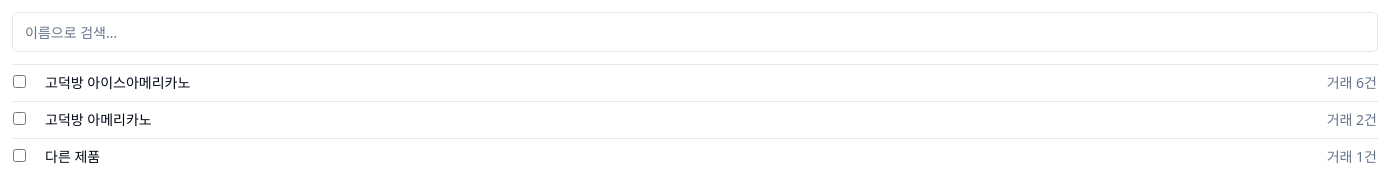
Test: ManualMergePanel › mount 시 자동으로 product 리스트 fetch + 검색 필터링
Expected: the text "고덕방 아이스아메리카노" is shown, x1=44 y1=64 x2=1028 y2=102
Expected: the text "다른 제품" is shown, x1=44 y1=138 x2=1028 y2=175
Type "고덕방" into the field with placeholder "이름으로 검색…" at [695, 32], box x1=12 y1=12 x2=1378 y2=52
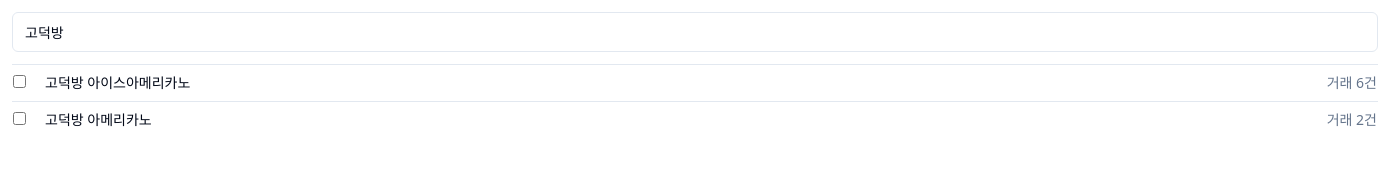
Expected: the text "고덕방 아이스아메리카노" is shown, x1=44 y1=64 x2=1028 y2=102
Now the text "다른 제품" is gone
